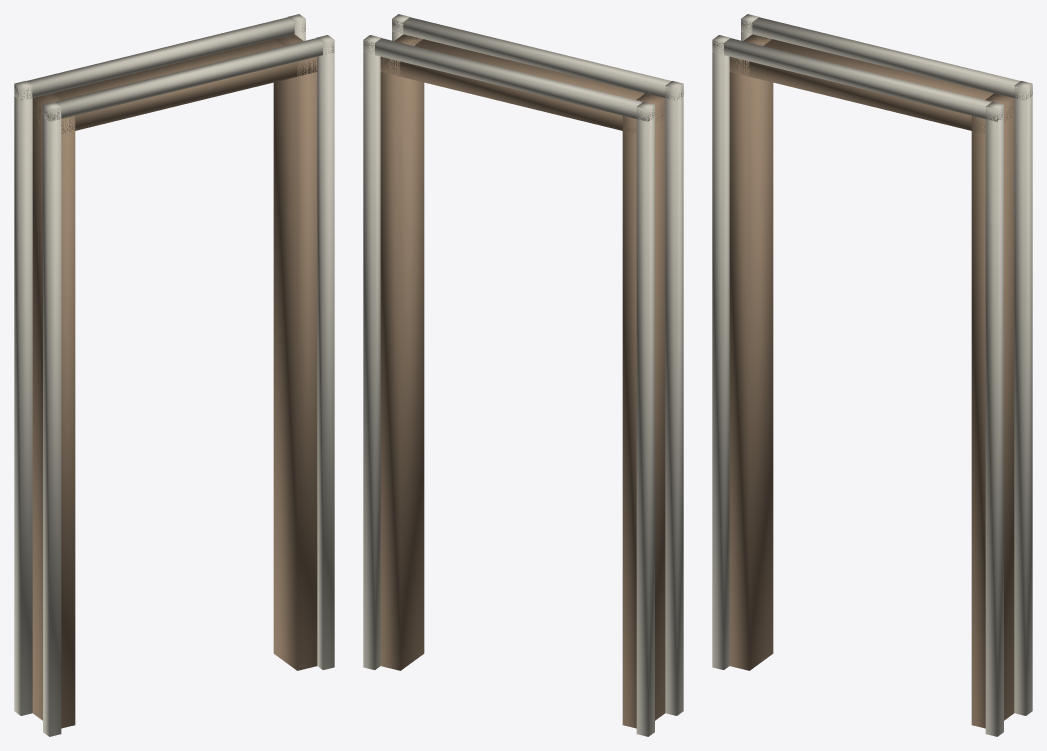
File: doorway_painted_trim_w86_h220_d16.glb
3 views of the same model, side by side, from view 1: azimuth 30°, elevation 25°; view 2: azimuth 150°, elevation 25°; view 3: azimuth 330°, elevation 25° (orthographic).
Parts seen in each view (by area): view 1: world; view 2: world; view 3: world.
Boxes of the visible parts, <box> form: world: <box>14,14,334,736</box>; world: <box>363,14,683,736</box>; world: <box>712,14,1032,736</box>.
Size of the model in its own units: 1.1 by 2.32 by 0.2365.
